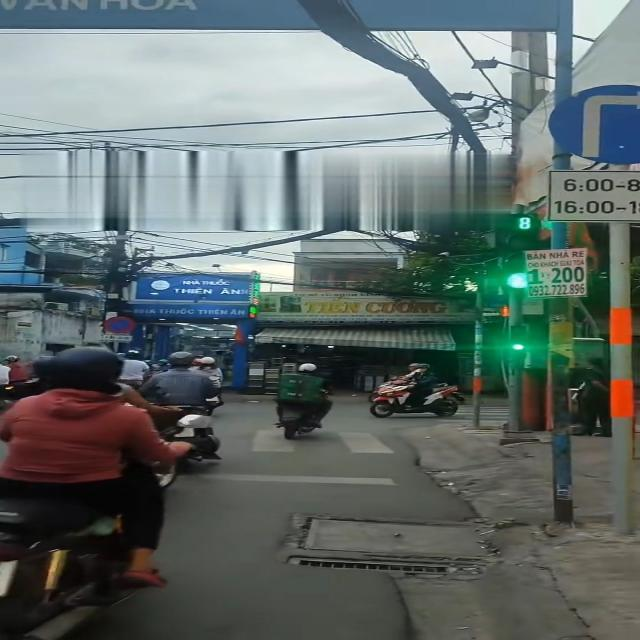301d-cac-xe-chi-duoc-re-phai-2: (554, 84, 640, 170)
